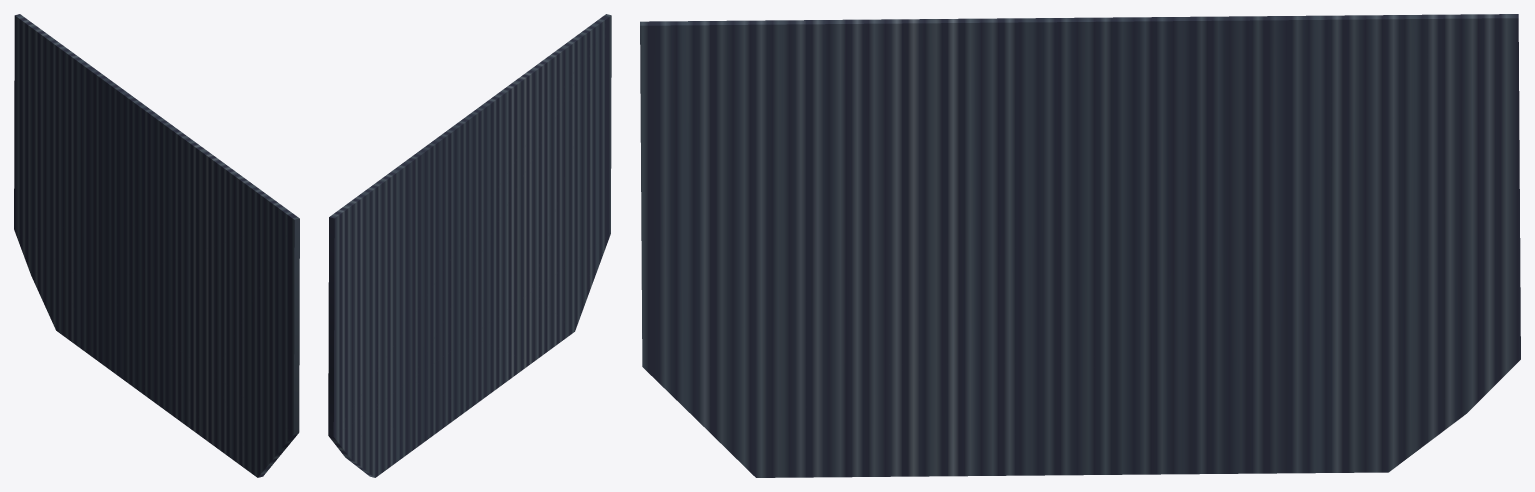
Rendered from soalrmat.gltf.
The picture shows the model from 3 angles, left to right: view 1: azimuth 30°, elevation 25°; view 2: azimuth 150°, elevation 25°; view 3: azimuth 270°, elevation 25°; orthographic projection. The views are drawn at different scales.
Parts seen in each view (by area): view 1: SolarPanel_044.001_Mesh.199; view 2: SolarPanel_044.001_Mesh.199; view 3: SolarPanel_044.001_Mesh.199.
Boxes of the visible parts, x1,y1,x2,y2 form: SolarPanel_044.001_Mesh.199: [14, 14, 299, 477]; SolarPanel_044.001_Mesh.199: [328, 14, 611, 477]; SolarPanel_044.001_Mesh.199: [640, 14, 1520, 477].
Bounding box in the file's own units: 0.00118 × 0.0364 × 0.0635.
Materials: 1 (1 with a texture image).
